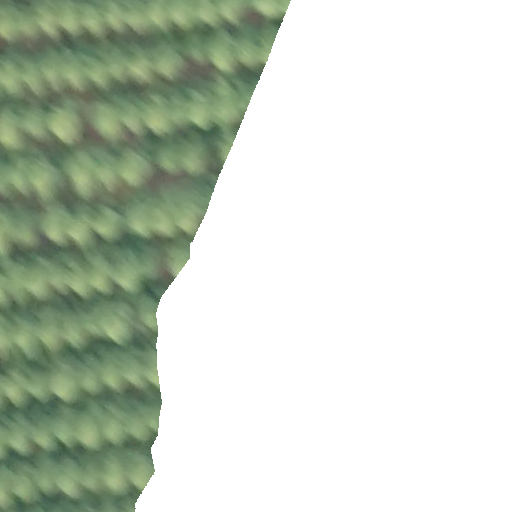eucalipto: (48, 93, 87, 147)
